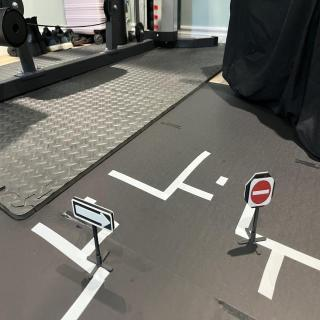sign_noentry: (247, 177, 276, 209)
sign_oneway_right: (73, 196, 116, 236)
